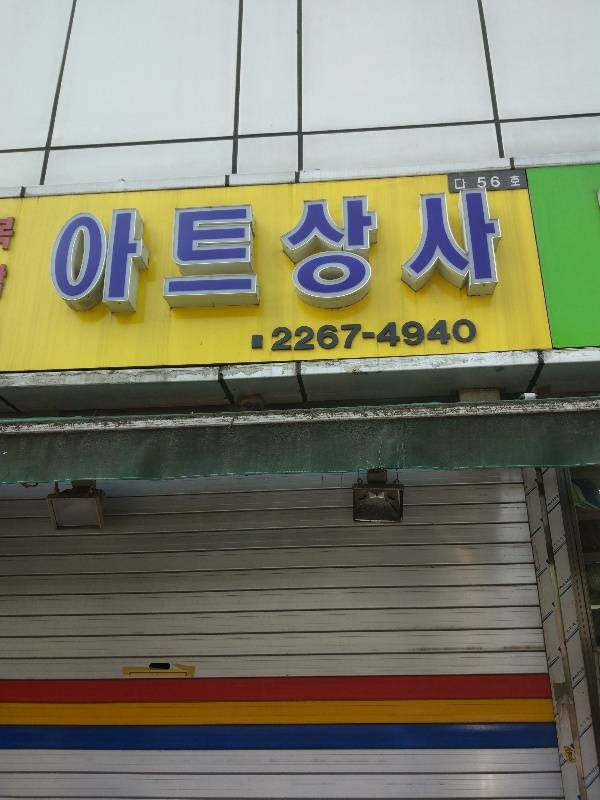text: (65, 191, 80, 313), (81, 191, 96, 313), (97, 191, 112, 313), (113, 191, 128, 313), (129, 191, 144, 313), (145, 191, 160, 313), (161, 191, 176, 313), (177, 191, 192, 313), (193, 191, 208, 313), (209, 191, 224, 313), (225, 191, 240, 313), (241, 191, 256, 313), (257, 191, 272, 313), (273, 191, 288, 313), (289, 191, 304, 313), (305, 191, 320, 313), (321, 191, 336, 313), (337, 191, 352, 313), (353, 191, 368, 313), (369, 191, 384, 313), (385, 191, 400, 313), (401, 191, 416, 313), (417, 191, 432, 313), (433, 191, 448, 313), (449, 191, 464, 313), (465, 191, 480, 313), (481, 191, 496, 313), (497, 191, 506, 313), (57, 191, 64, 313), (1, 214, 16, 255), (257, 316, 272, 354), (273, 316, 288, 354), (289, 316, 304, 354), (305, 316, 320, 354), (321, 316, 336, 354), (337, 316, 352, 354), (353, 316, 368, 354), (369, 316, 384, 354), (385, 316, 400, 354), (401, 316, 416, 354), (417, 316, 432, 354), (433, 316, 448, 354), (449, 316, 464, 354), (1, 265, 16, 301), (465, 316, 478, 354), (547, 491, 560, 509), (250, 316, 256, 354), (465, 176, 480, 191), (481, 176, 496, 191), (497, 176, 512, 191), (566, 746, 576, 763), (565, 747, 576, 762), (561, 576, 572, 591), (580, 717, 592, 730), (454, 176, 464, 191), (584, 764, 592, 782), (577, 665, 585, 683), (513, 176, 521, 191), (593, 764, 599, 782), (567, 622, 576, 634), (562, 753, 576, 760), (578, 618, 592, 625), (554, 532, 560, 547), (561, 532, 566, 547), (572, 665, 576, 683), (585, 664, 592, 669), (558, 576, 560, 591), (571, 574, 576, 579), (598, 762, 600, 767), (591, 713, 592, 719)
